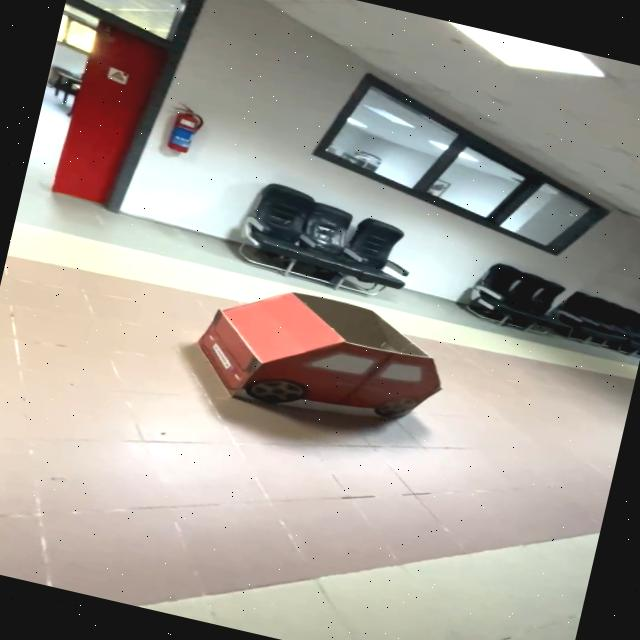red_car: (153, 250, 487, 459)
